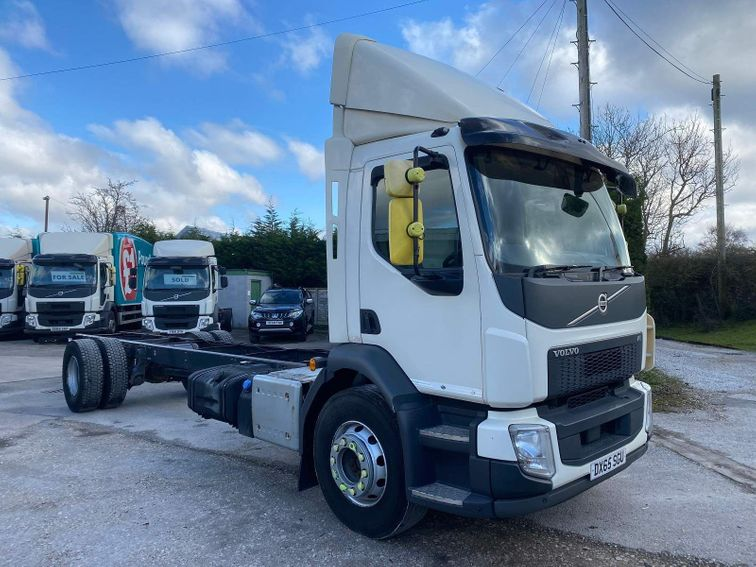Car: (246, 284, 315, 341)
Semi: (61, 36, 655, 540), (24, 231, 153, 337), (141, 240, 232, 334)
